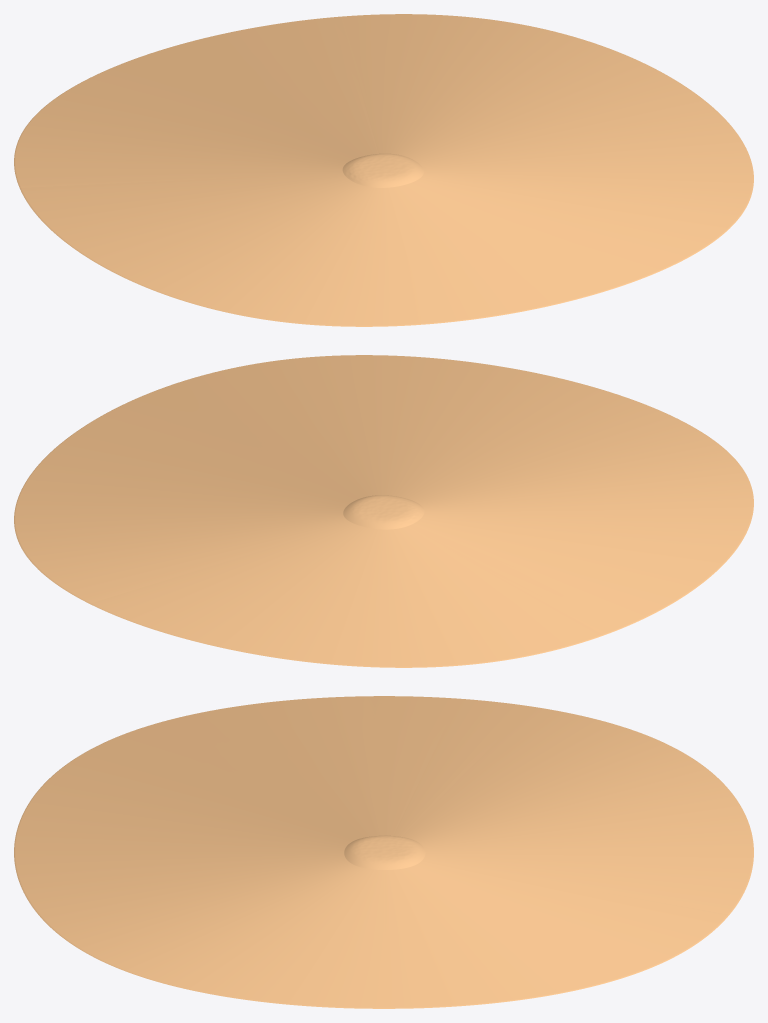
The model's file is island4.glb.
3 views of the same model, one above another, from view 1: azimuth 30°, elevation 25°; view 2: azimuth 150°, elevation 25°; view 3: azimuth 270°, elevation 25° (orthographic). The views are drawn at different scales.
Visible parts, largest first — view 1: Plane.005_Plane.007_Material.002_Material.002_0; view 2: Plane.005_Plane.007_Material.002_Material.002_0; view 3: Plane.005_Plane.007_Material.002_Material.002_0.
Part boxes in pixels (bbox=[...]): Plane.005_Plane.007_Material.002_Material.002_0: bbox=[14, 14, 753, 326]; Plane.005_Plane.007_Material.002_Material.002_0: bbox=[14, 355, 753, 667]; Plane.005_Plane.007_Material.002_Material.002_0: bbox=[14, 696, 753, 1008].
Bounding box in the file's own units: 1234 × 9.45 × 1234.
